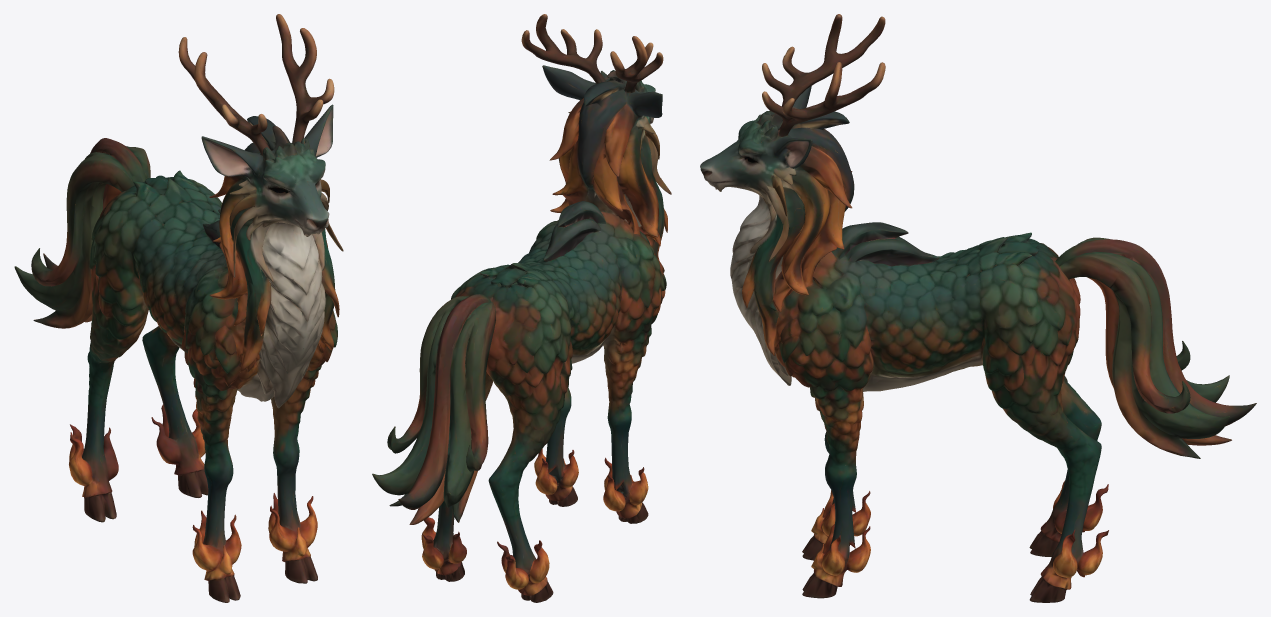
The model's file is detail_13.glb.
The picture shows the model from 3 angles, left to right: view 1: azimuth 30°, elevation 25°; view 2: azimuth 150°, elevation 25°; view 3: azimuth 270°, elevation 25°; orthographic projection. The views are drawn at different scales.
Bounding box in the file's own units: 0.2661 × 1 × 0.9426.
1 material, 1 textured.
